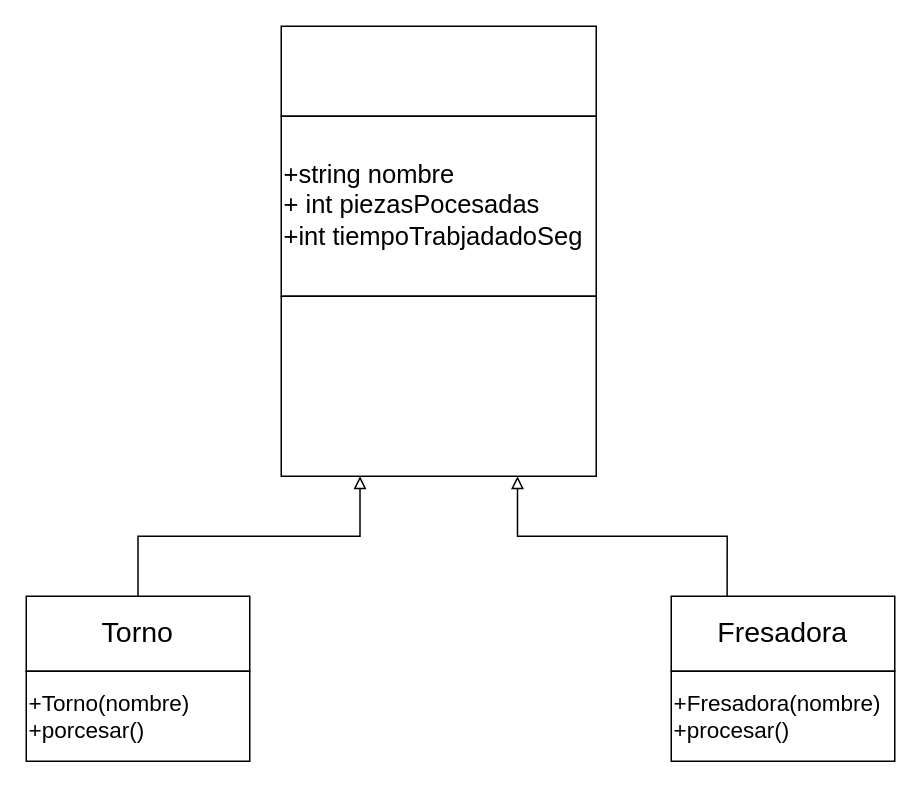
Some shapes in this 921 by 788 pixel diagram are drawn without their labels. The shapes that lost their labels are listed below. From the top down, each one's box as (x1, y1, x2, y2) in pixels, then its label:
(280, 25, 596, 116): Máquina
(280, 295, 596, 476): +Maquina(nombre) +procesar() +procesar() +mostrarEstado()
